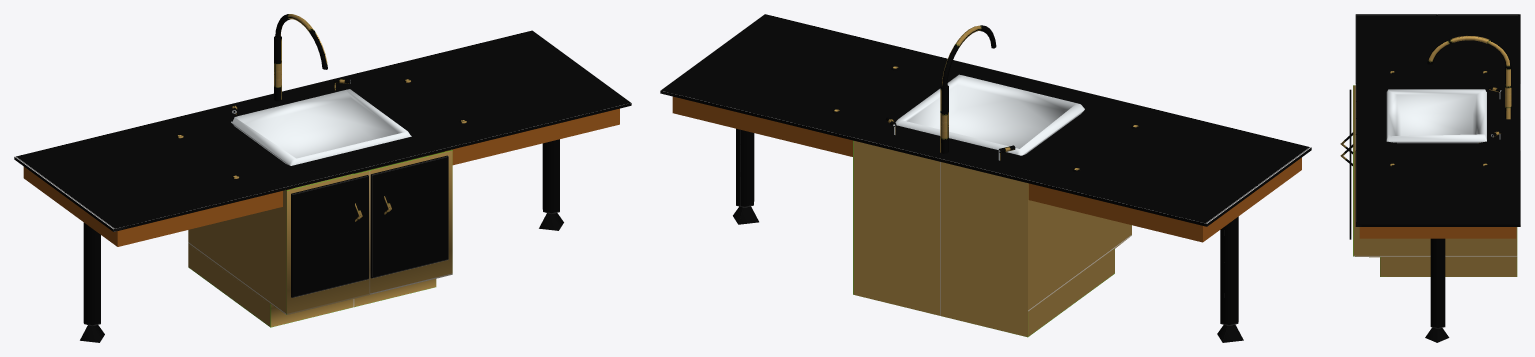
The model's file is SM_Tablesink_001 - Copy.FBX.
3 renders of one model, left to right at view 1: azimuth 30°, elevation 25°; view 2: azimuth 150°, elevation 25°; view 3: azimuth 270°, elevation 25°, orthographic. The views are drawn at different scales.
Visible parts, largest first — view 1: SM_Main_Cab; view 2: SM_Main_Cab; view 3: SM_Main_Cab.
Boxes of the visible parts, <box> form: SM_Main_Cab: <box>14,14,631,342</box>; SM_Main_Cab: <box>660,14,1311,342</box>; SM_Main_Cab: <box>1340,14,1520,342</box>.
Size of the model in its own units: 66.05 by 30.42 by 23.91.
4 materials, 2 textured.
